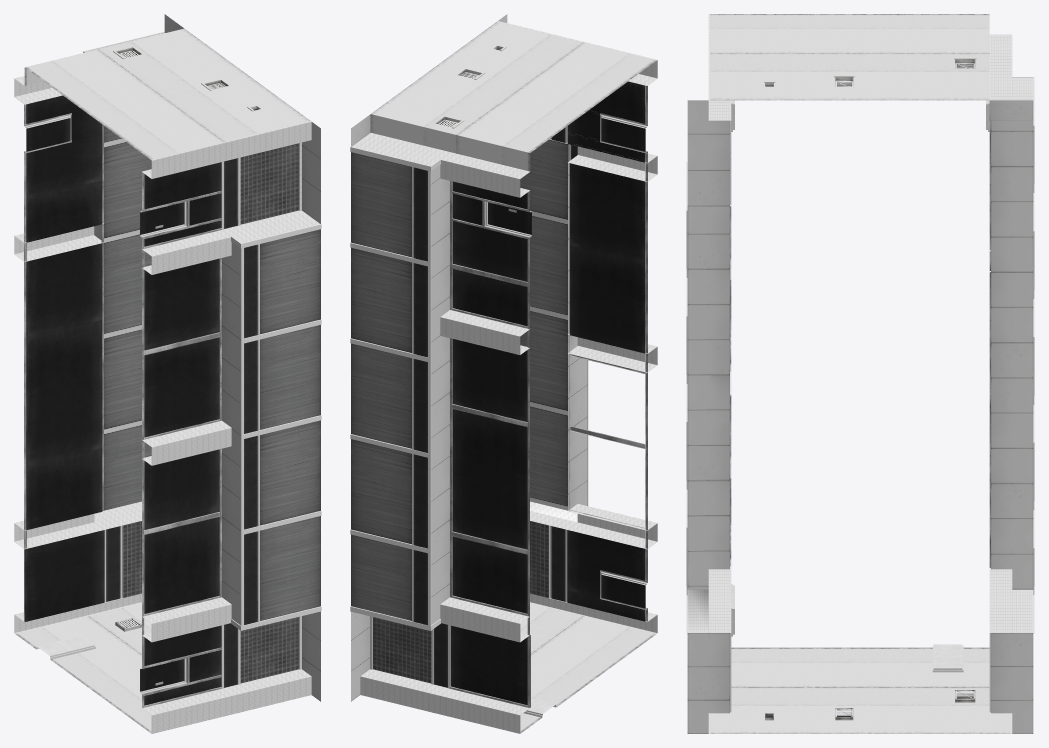
3 views of the same model, side by side, from view 1: azimuth 30°, elevation 25°; view 2: azimuth 150°, elevation 25°; view 3: azimuth 270°, elevation 25° (orthographic). The views are drawn at different scales.
Parts seen in each view (by area): view 1: S_C_02_01_S.003, S_C_02_01_S.001, S_C_02_01_S.004, S_C_02_01_S.005, S_C_02_01_S.002; view 2: S_C_02_01_S.003, S_C_02_01_S.001, S_C_02_01_S.004, S_C_02_01_S.005, S_C_02_01_S.002; view 3: S_C_02_01_S.001, S_C_02_01_S.003, S_C_02_01_S.004, S_C_02_01_S.005, S_C_02_01_S.002.
Part boxes in pixels (left/top/right/bottom): S_C_02_01_S.003: left=15, top=28, right=310, bottom=732; S_C_02_01_S.001: left=94, top=14, right=320, bottom=701; S_C_02_01_S.004: left=14, top=32, right=319, bottom=733; S_C_02_01_S.005: left=83, top=31, right=321, bottom=683; S_C_02_01_S.002: left=25, top=115, right=186, bottom=693; S_C_02_01_S.003: left=370, top=22, right=656, bottom=732; S_C_02_01_S.001: left=351, top=14, right=587, bottom=701; S_C_02_01_S.004: left=352, top=21, right=657, bottom=733; S_C_02_01_S.005: left=350, top=46, right=588, bottom=683; S_C_02_01_S.002: left=485, top=115, right=646, bottom=717; S_C_02_01_S.001: left=687, top=100, right=1033, bottom=733; S_C_02_01_S.003: left=710, top=14, right=1010, bottom=733; S_C_02_01_S.004: left=687, top=14, right=1033, bottom=733; S_C_02_01_S.005: left=686, top=57, right=1034, bottom=720; S_C_02_01_S.002: left=731, top=100, right=989, bottom=672.
Size of the model in its own units: 8.96 by 15.31 by 30.8.
